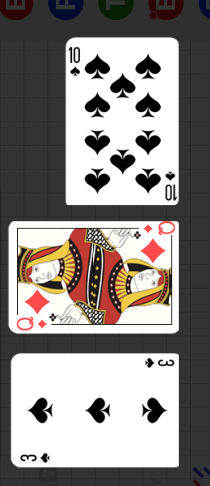10S: (69, 45, 83, 79), (163, 169, 177, 202)
3S: (143, 356, 177, 370)
QD: (132, 234, 179, 278), (12, 301, 58, 345)
